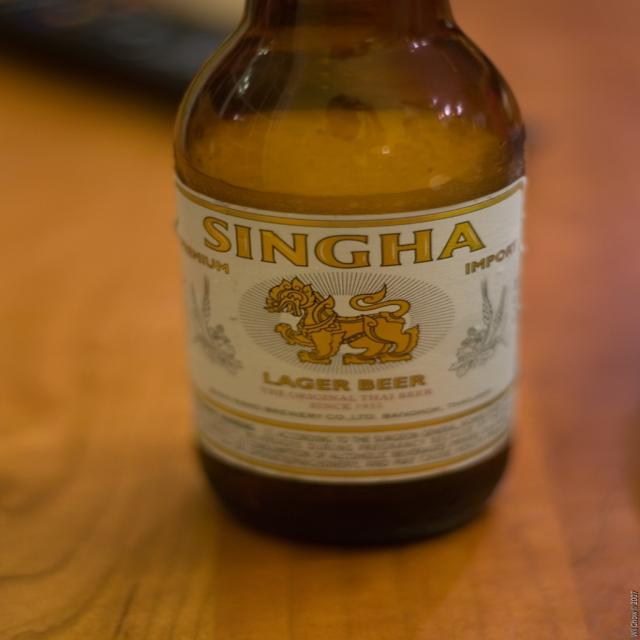singha: (173, 183, 527, 434)
